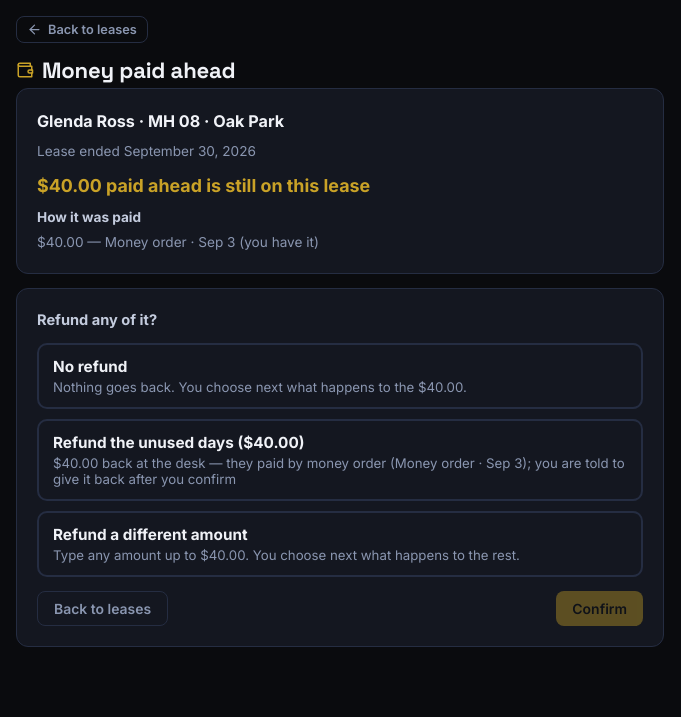
Money paid ahead: the server's choices, shown and sent › a 409 "already decided": the decided card in place, the reason said once, no choice buttons
Click the button that starts with "Refund the unused days ($40.00)" at (340, 460), box [37,419,643,501]
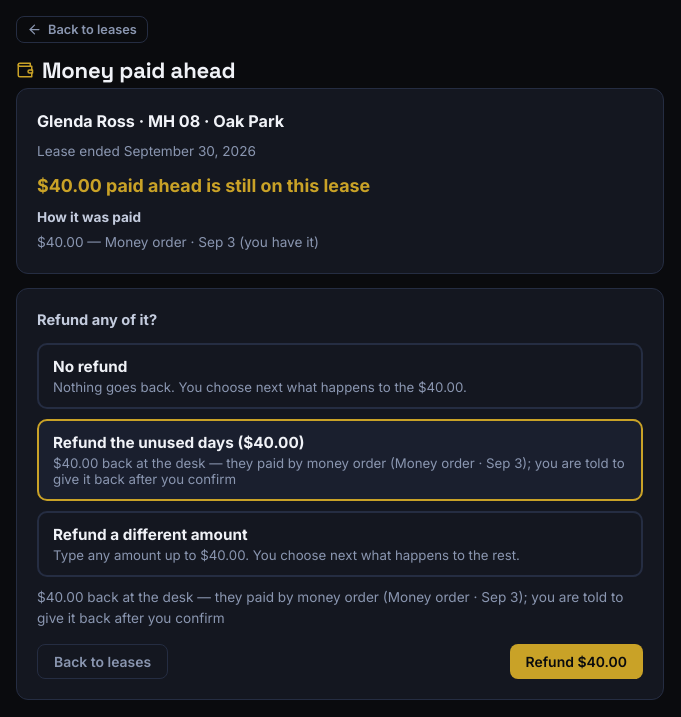
Click the button "Refund $40.00" at (576, 662), box [510,644,643,679]
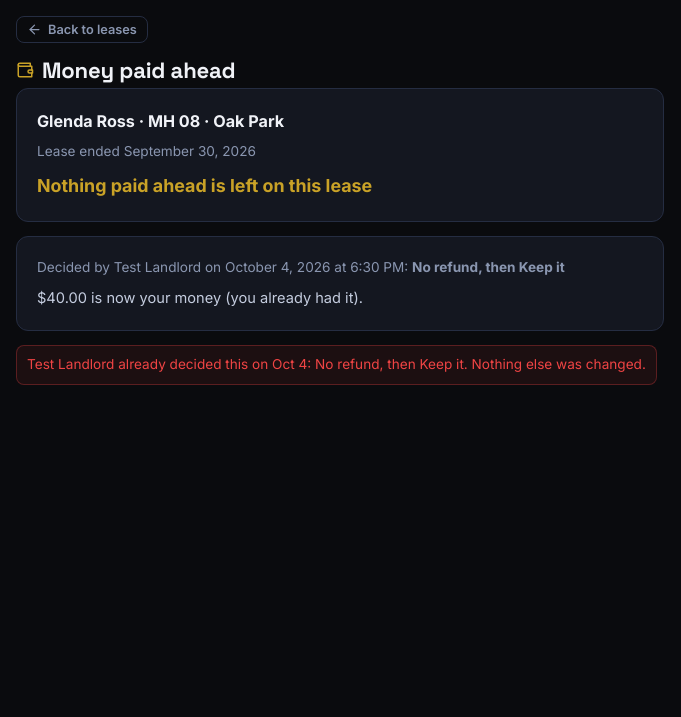
Check: the text "Decided by Test Landlord on October 4, 2026" is shown, box [37,257,643,279]
Check: the text "$40.00 is now your money (you already had it)." is shown, box [37,289,363,307]
